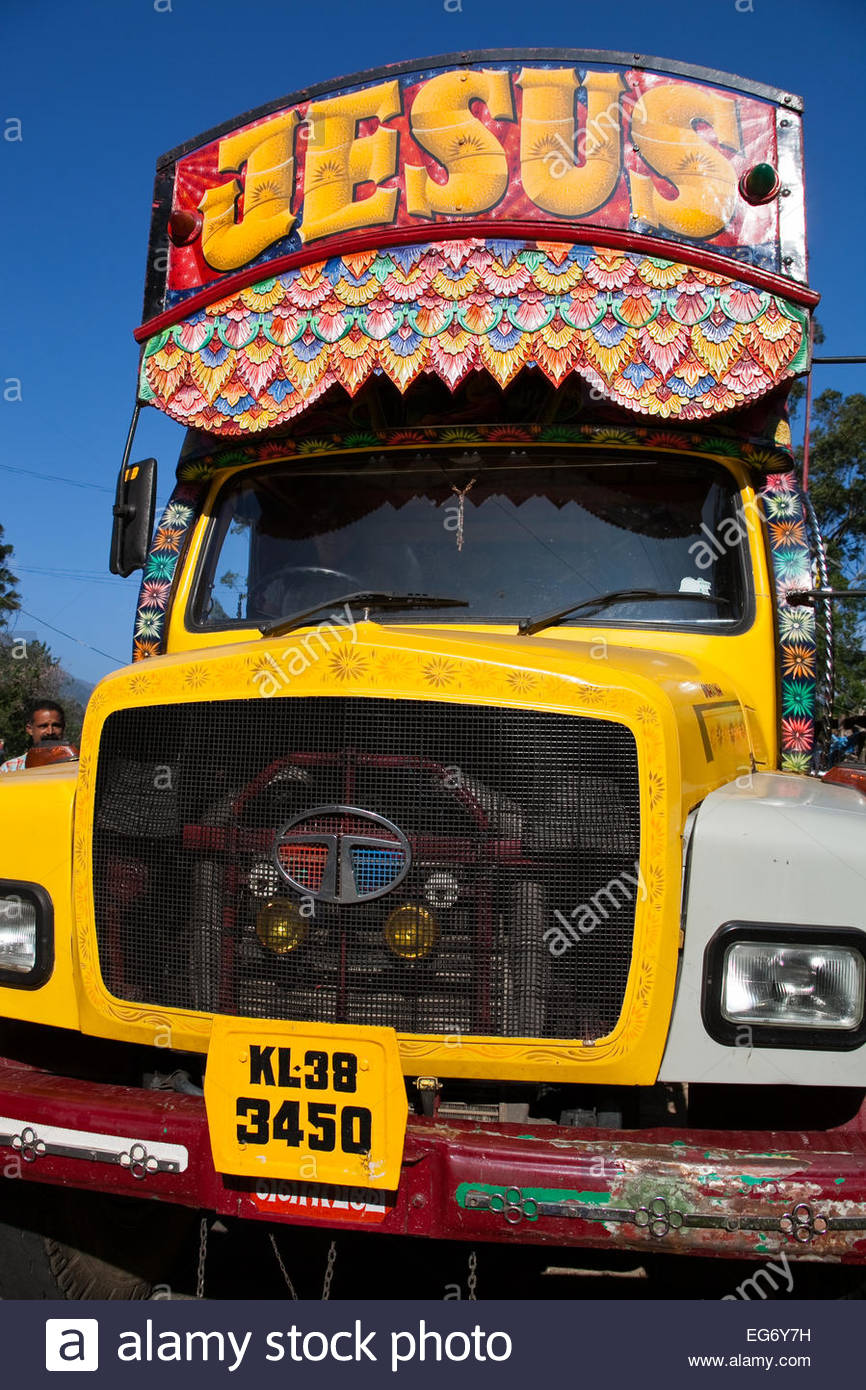doublelinenumberplate: (199, 1011, 409, 1201)
